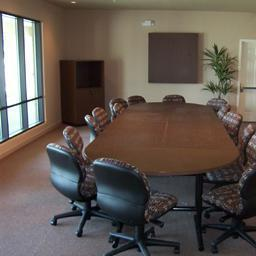Matera: (206, 43, 231, 107)
Ventana: (0, 22, 41, 143)
